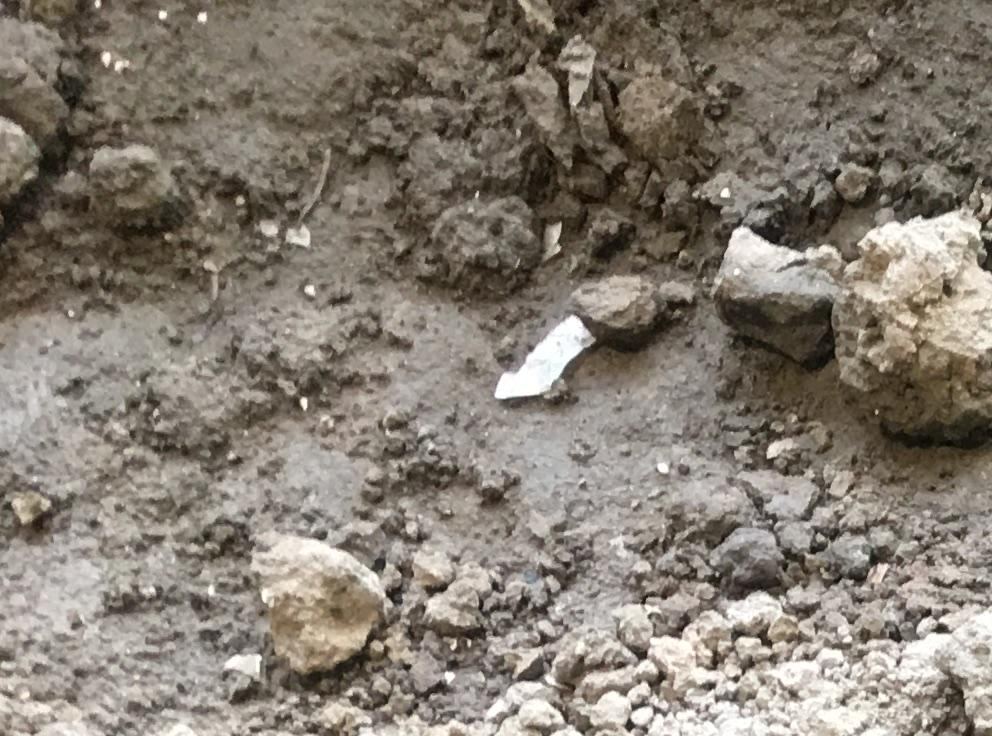block: (838, 208, 992, 444), (241, 532, 393, 676), (708, 224, 837, 364)
